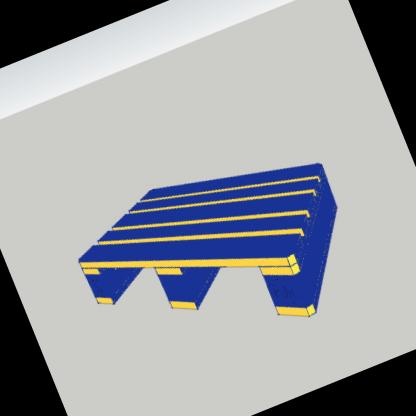BoxFace: (72, 159, 343, 324)
